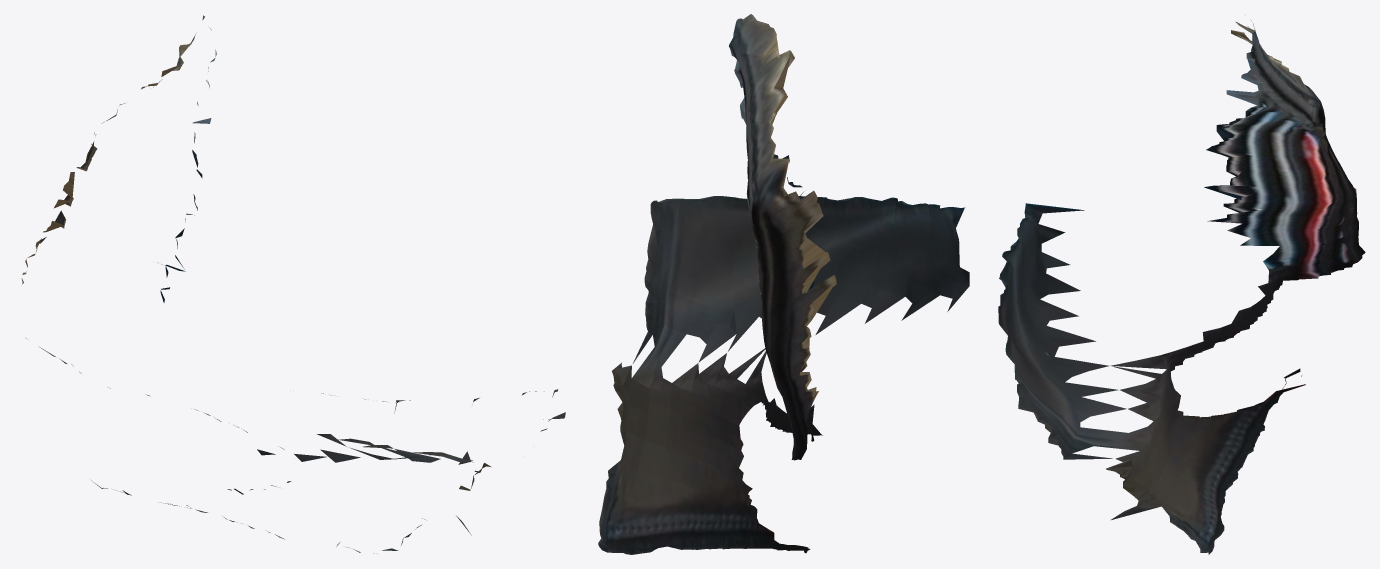
The model's file is observed-surface.glb.
3 renders of one model, left to right at view 1: azimuth 30°, elevation 25°; view 2: azimuth 150°, elevation 25°; view 3: azimuth 270°, elevation 25°, orthographic. The views are drawn at different scales.
Visible parts, largest first — view 1: geometry_0; view 2: geometry_0; view 3: geometry_0.
Boxes of the visible parts, bbox=[...] form: geometry_0: bbox=[21, 15, 565, 553]; geometry_0: bbox=[598, 14, 969, 554]; geometry_0: bbox=[998, 20, 1365, 554].
Bounding box in the file's own units: 0.4741 × 0.7194 × 0.5052.
1 material, 1 textured.
